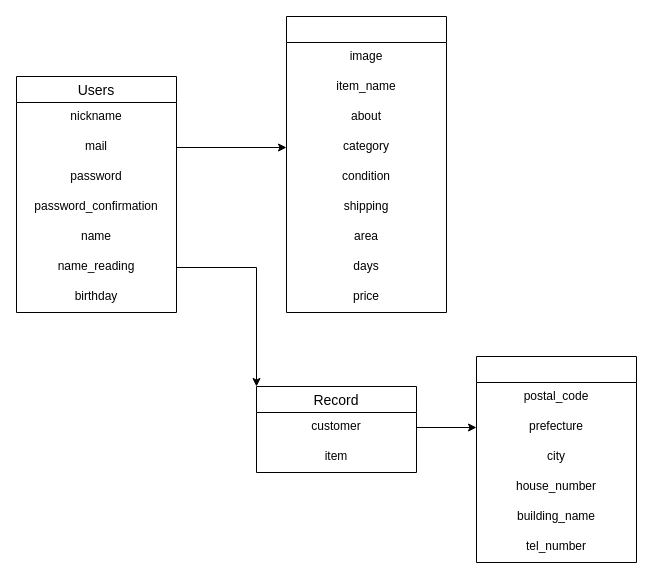
Image size: 653x579. Some labels were removed from this diagram. The shapes that lost their labels are listed below. From the top down, each one's box as (x1, y1, x2, y2) in pixels, then its label:
(286, 16, 446, 312): Items
(476, 356, 636, 562): Address
